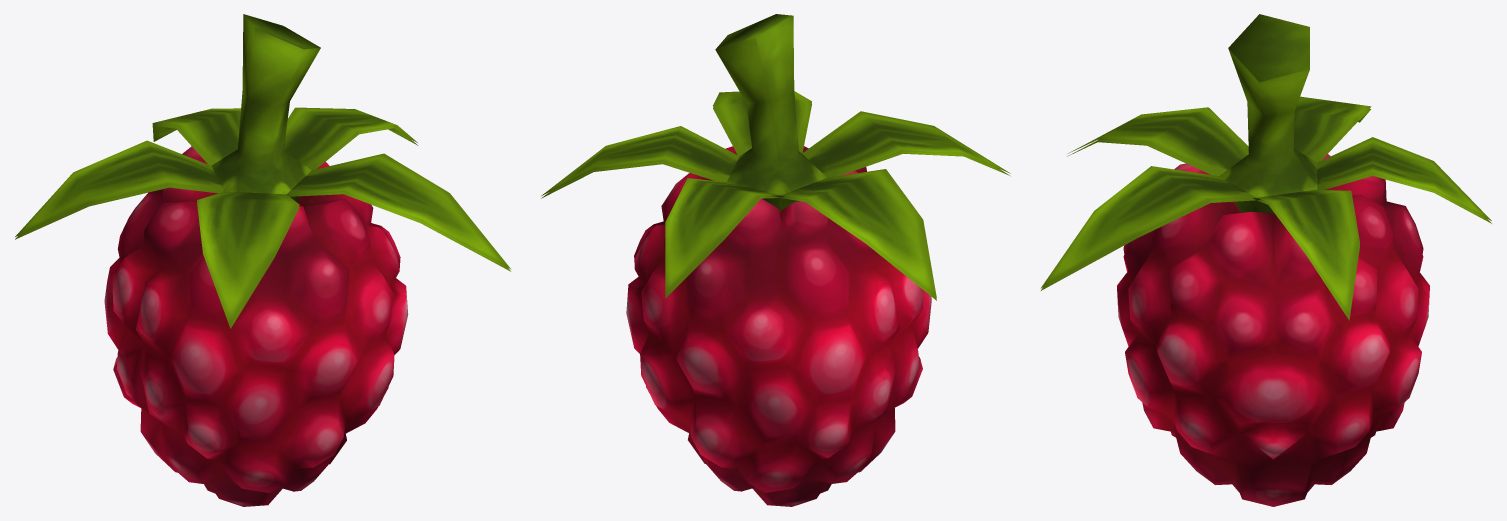
Rendered from raspberry.fbx.
The picture shows the model from 3 angles, left to right: view 1: azimuth 30°, elevation 25°; view 2: azimuth 150°, elevation 25°; view 3: azimuth 270°, elevation 25°; orthographic projection.
Visible parts, largest first — view 1: raspberry; view 2: raspberry; view 3: raspberry.
Boxes of the visible parts, x1,y1,x2,y2 form: raspberry: (15, 14, 511, 506); raspberry: (541, 14, 1010, 506); raspberry: (1040, 14, 1491, 506).
Size of the model in its own units: 1.92 by 2.18 by 1.85.
